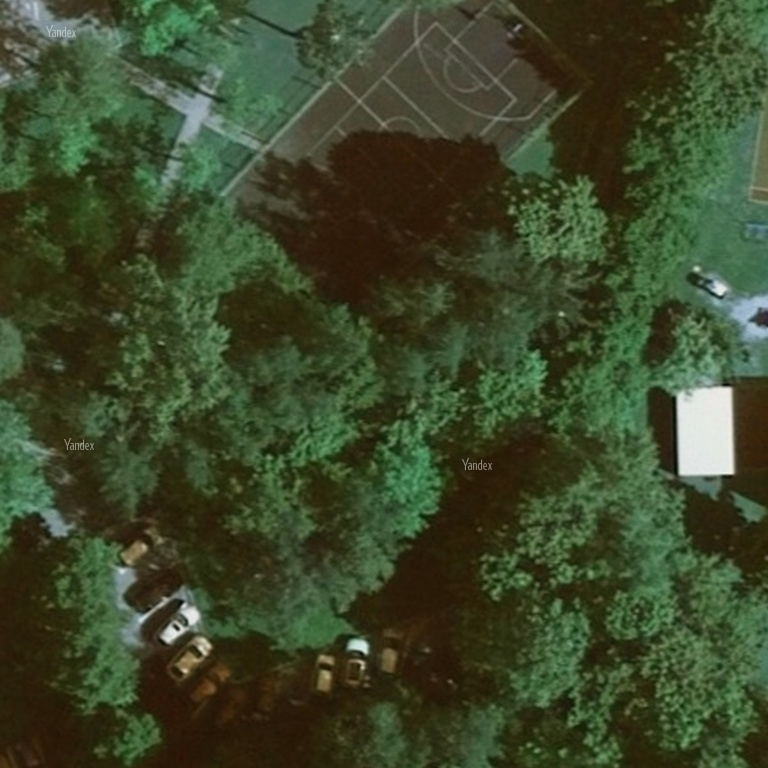basket_court: (202, 1, 606, 345)
